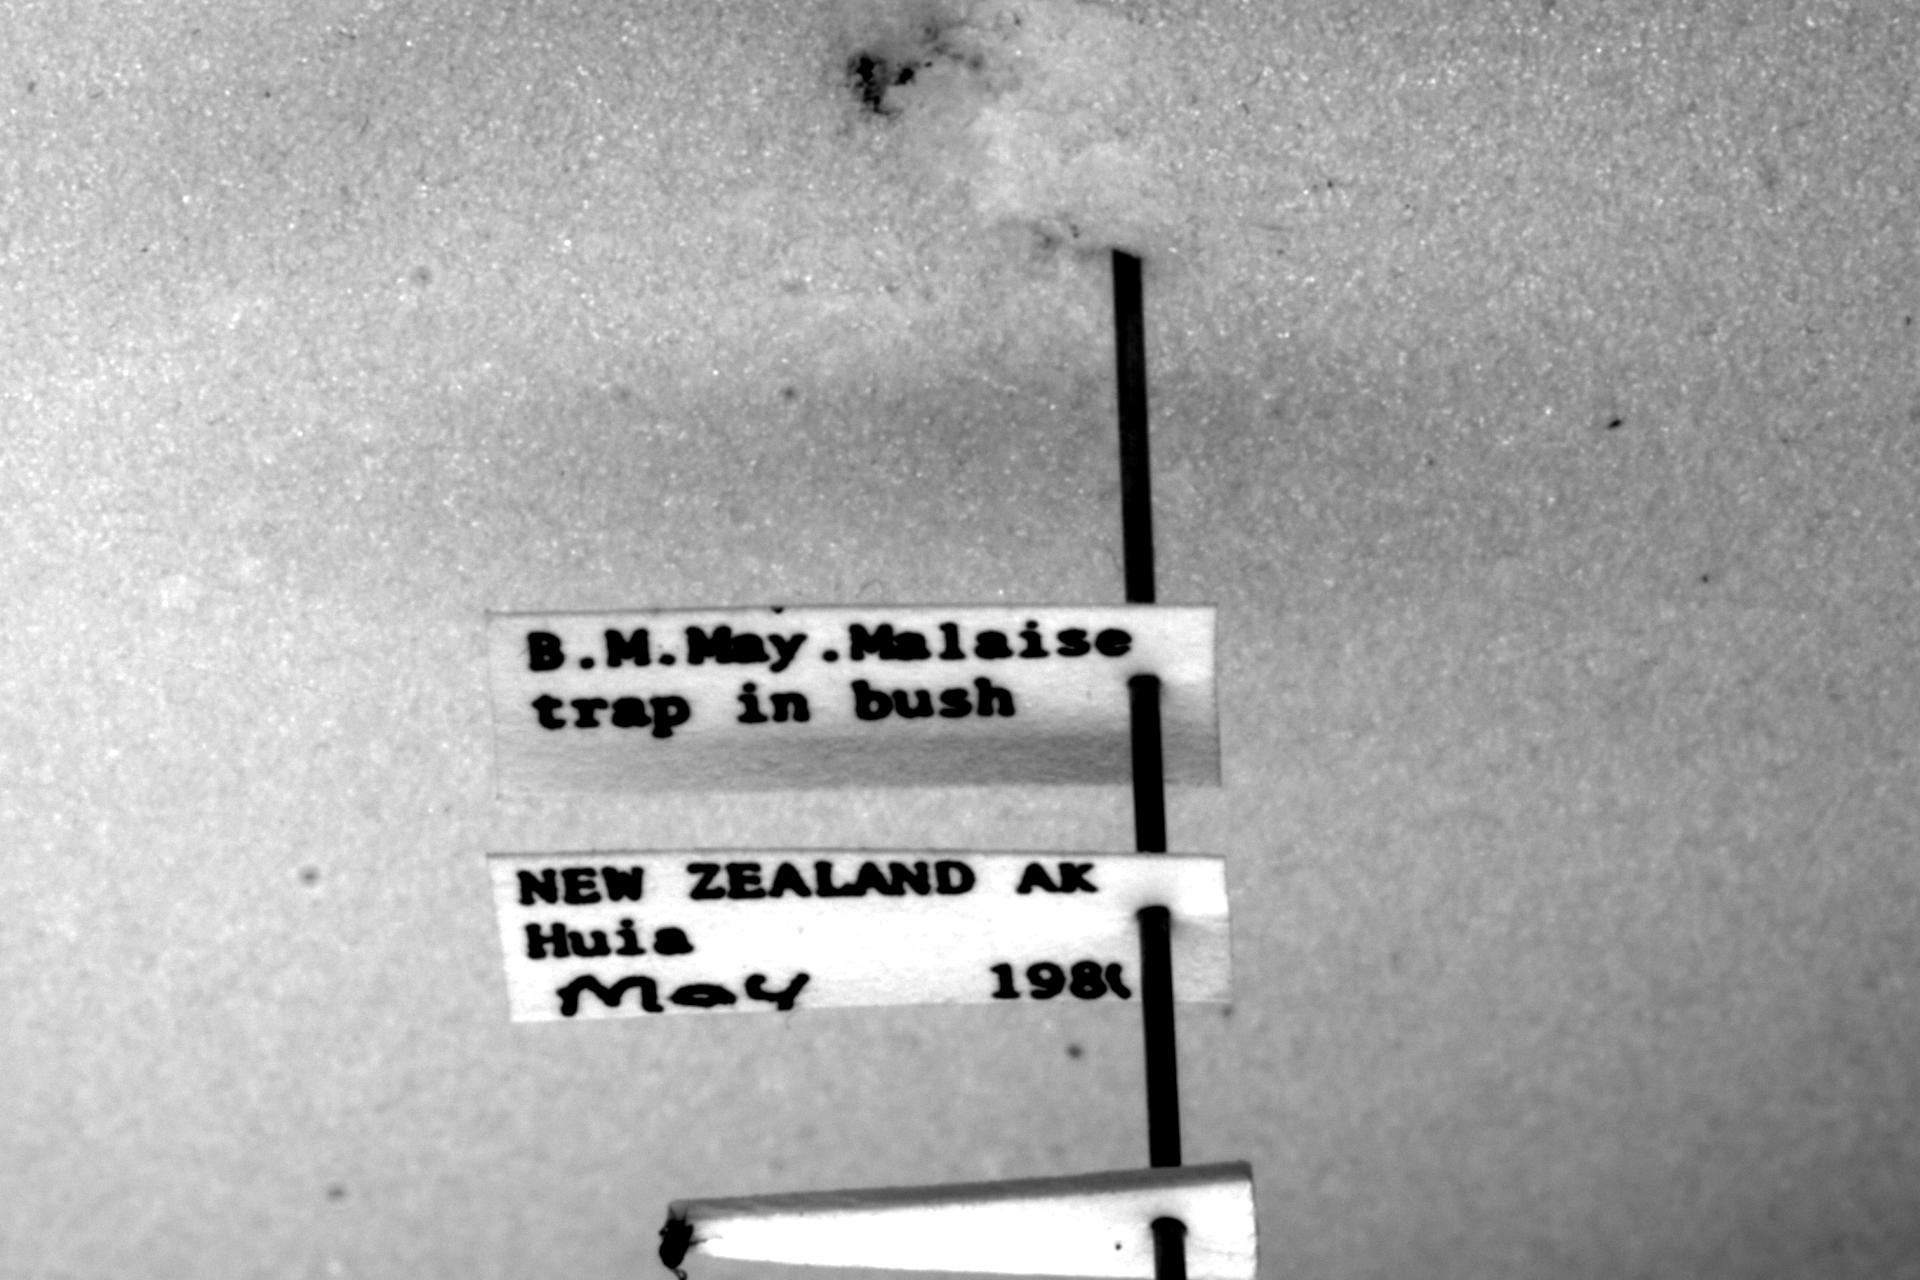mixed_label: (491, 851, 1234, 1024)
typed_label: (488, 604, 1219, 795)
